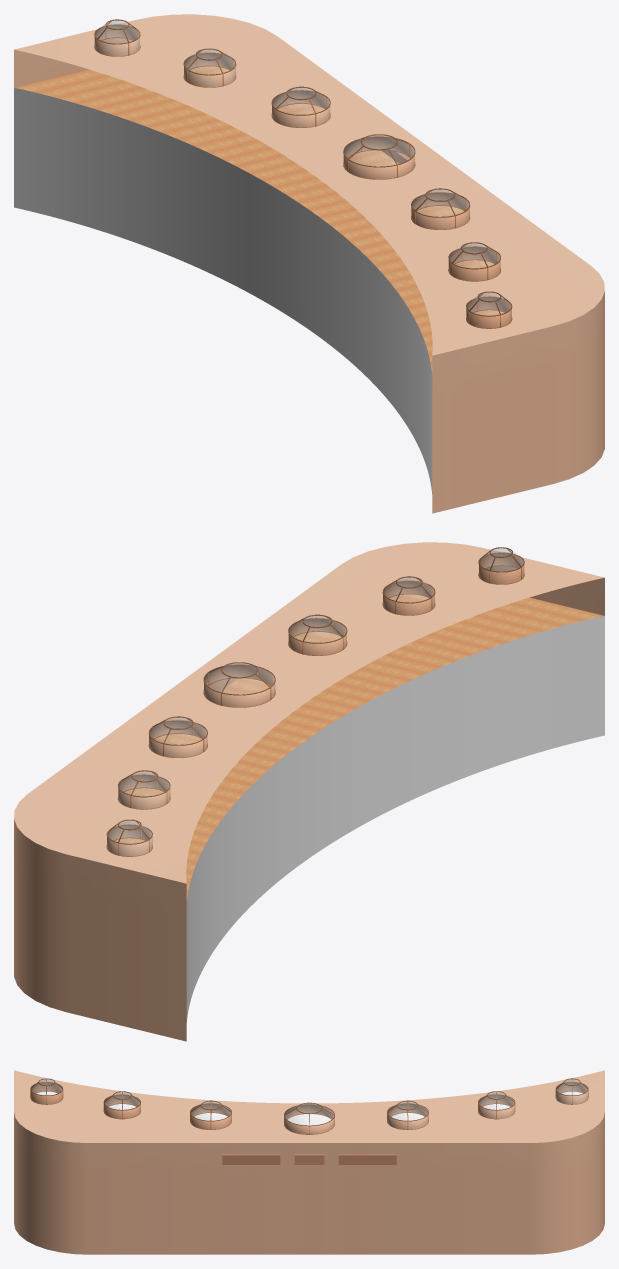
Rendered from Main Building.glb.
3 views of the same model, one above another, from view 1: azimuth 30°, elevation 25°; view 2: azimuth 150°, elevation 25°; view 3: azimuth 270°, elevation 25° (orthographic). The views are drawn at different scales.
Parts seen in each view (by area): view 1: Main_Building; view 2: Main_Building; view 3: Main_Building.
Part boxes in pixels (bbox=[...]): Main_Building: bbox=[14, 14, 604, 513]; Main_Building: bbox=[14, 542, 604, 1041]; Main_Building: bbox=[14, 1070, 604, 1254].
Size of what is drawn, in the model's own units: 53.55 by 42.88 by 180.
Materials: 4 (2 with a texture image).
